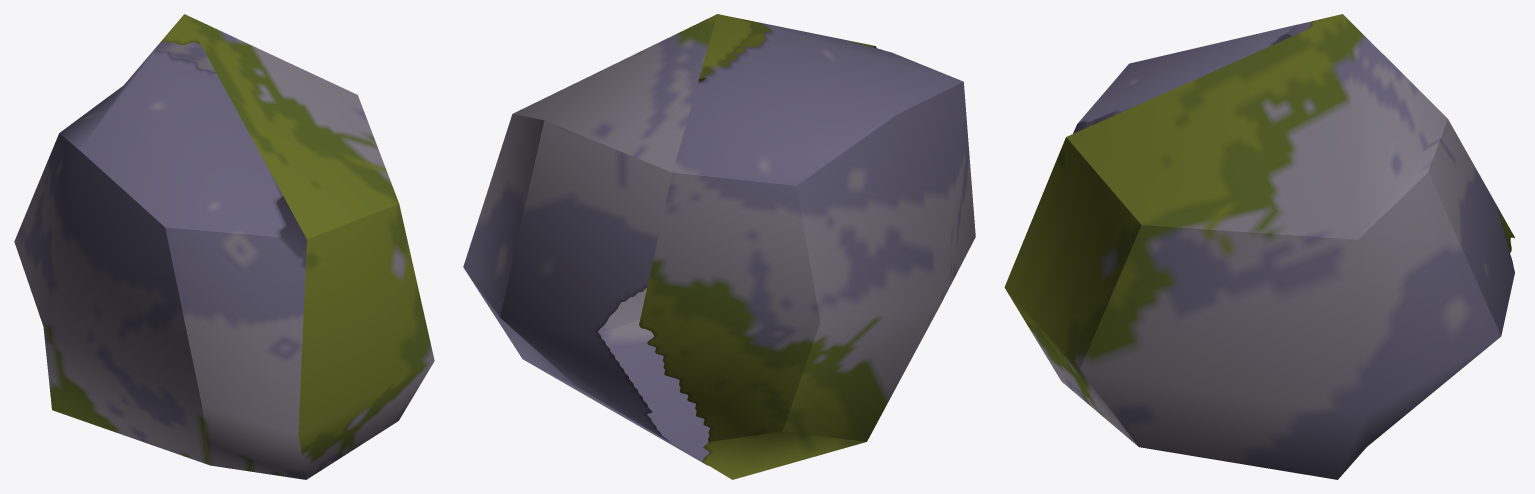
Rendered from rock_test.fbx.
3 renders of one model, left to right at view 1: azimuth 30°, elevation 25°; view 2: azimuth 150°, elevation 25°; view 3: azimuth 270°, elevation 25°, orthographic. The views are drawn at different scales.
Parts seen in each view (by area): view 1: pCube7; view 2: pCube7; view 3: pCube7.
Boxes of the visible parts, bbox=[...] form: pCube7: bbox=[14, 14, 434, 479]; pCube7: bbox=[463, 14, 975, 479]; pCube7: bbox=[1004, 14, 1514, 479].
Size of the model in its own units: 1.25 by 1.29 by 1.37.
